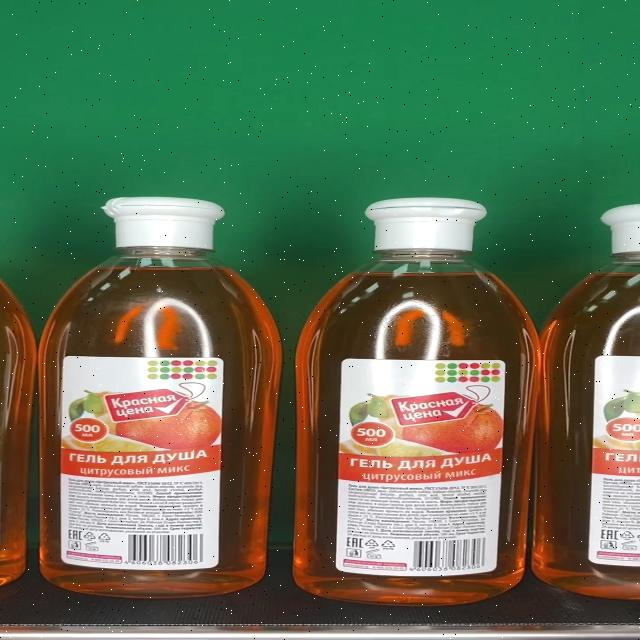Bottle: (292, 198, 544, 606), (36, 197, 281, 599)
Cap: (365, 198, 489, 250), (106, 198, 225, 248)
